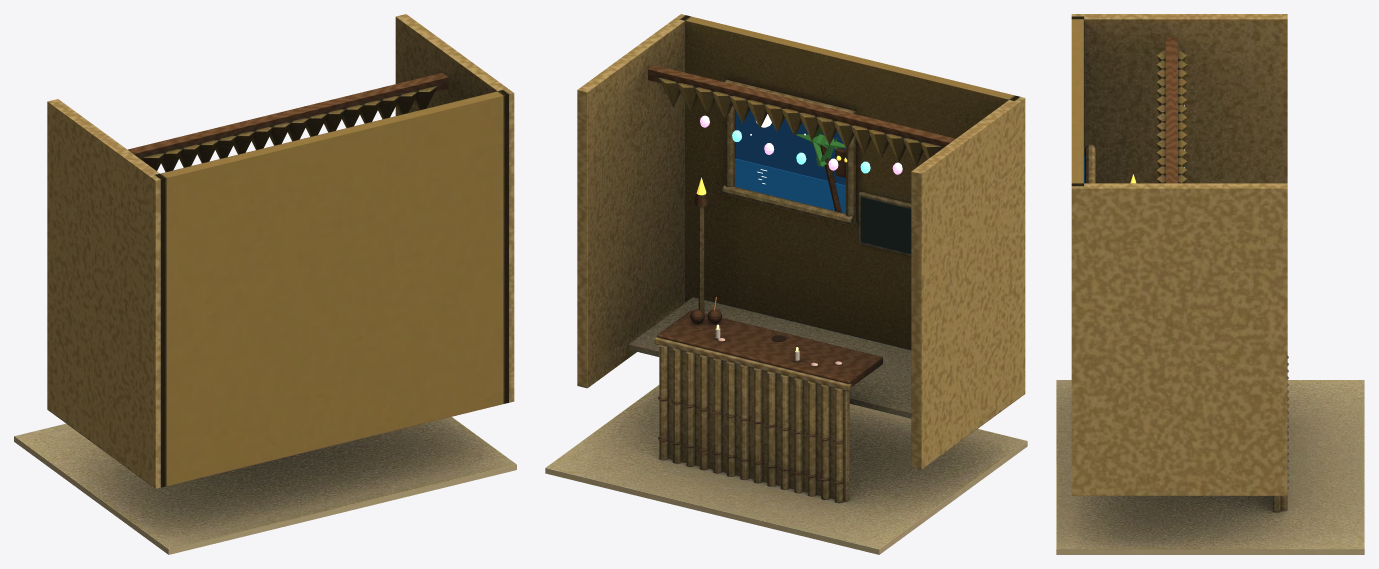
File: loc_beach.glb
3 renders of one model, left to right at view 1: azimuth 30°, elevation 25°; view 2: azimuth 150°, elevation 25°; view 3: azimuth 270°, elevation 25°, orthographic. The views are drawn at different scales.
Parts seen in each view (by area): view 1: M_thatch, M_bamboo, M_sand, M_tiki; view 2: M_bamboo, M_thatch, M_sand, M_tiki, M_sea_night, M_ocean_night, CHALKBOARD, M_leaf; view 3: M_bamboo, M_sand, M_thatch, M_tiki.
Boxes of the visible parts, bbox=[...] form: M_thatch: bbox=[142, 86, 508, 487]; M_bamboo: bbox=[47, 14, 514, 488]; M_sand: bbox=[14, 417, 516, 554]; M_tiki: bbox=[128, 73, 448, 161]; M_bamboo: bbox=[577, 14, 1025, 503]; M_thatch: bbox=[658, 15, 1019, 349]; M_sand: bbox=[545, 297, 1027, 554]; M_tiki: bbox=[648, 65, 955, 483]; M_sea_night: bbox=[735, 109, 845, 185]; M_ocean_night: bbox=[735, 158, 845, 213]; CHALKBOARD: bbox=[860, 197, 911, 253]; M_leaf: bbox=[796, 126, 845, 166]; M_bamboo: bbox=[1071, 14, 1287, 512]; M_sand: bbox=[1056, 380, 1364, 554]; M_thatch: bbox=[1071, 16, 1187, 185]; M_tiki: bbox=[1165, 37, 1288, 489].
Size of the model in its own units: 2.68 by 2.64 by 2.
Materials: 20 (5 with a texture image).
